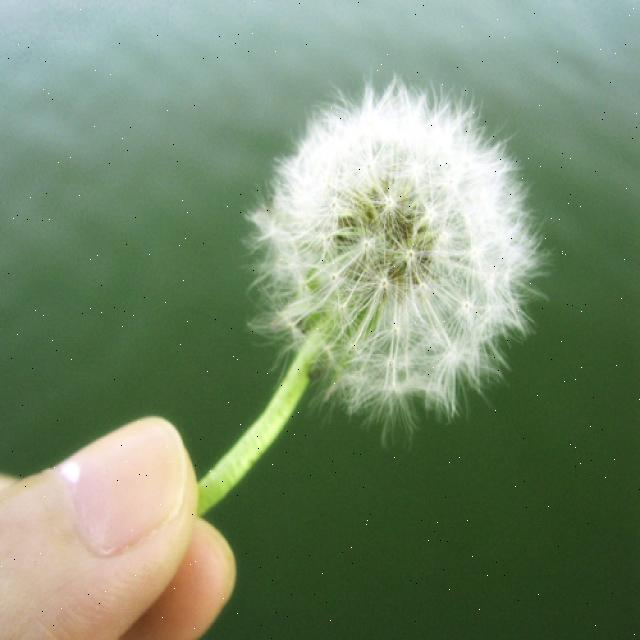Bloomed: (243, 74, 548, 436)
